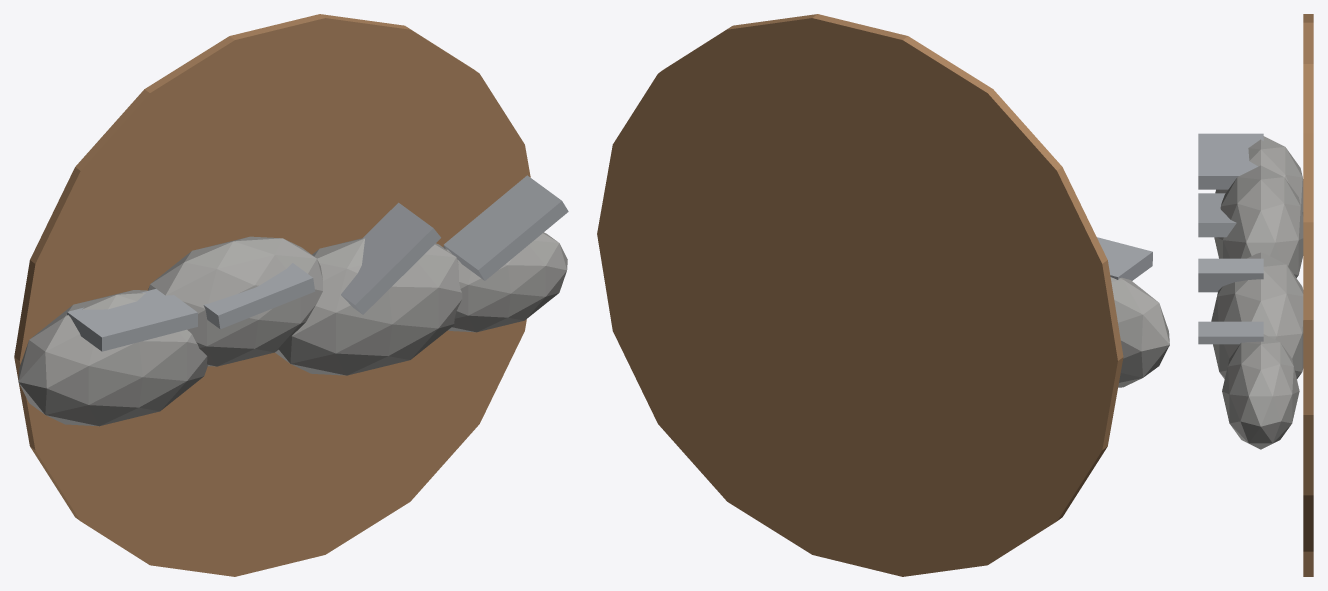
Rendered from 02_local_prop_cluster.glb.
3 renders of one model, left to right at view 1: azimuth 30°, elevation 25°; view 2: azimuth 150°, elevation 25°; view 3: azimuth 270°, elevation 25°, orthographic. The views are drawn at different scales.
Visible parts, largest first — view 1: scatter_base, scrap_rock_0, scrap_rock_2, scrap_rock_1, scrap_rock_3, scrap_plate_3, scrap_plate_2, scrap_plate_0, scrap_plate_1; view 2: scatter_base, scrap_rock_0, scrap_plate_0; view 3: scrap_rock_1, scrap_rock_3, scatter_base, scrap_rock_2, scrap_plate_0, scrap_plate_2, scrap_rock_0, scrap_plate_3, scrap_plate_1.
Part boxes in pixels (left/top/right/bottom): scatter_base: left=14, top=14, right=530, bottom=576; scrap_rock_0: left=18, top=290, right=207, bottom=426; scrap_rock_2: left=275, top=238, right=462, bottom=375; scrap_rock_1: left=148, top=236, right=322, bottom=366; scrap_rock_3: left=443, top=232, right=567, bottom=332; scrap_plate_3: left=444, top=175, right=568, bottom=280; scrap_plate_2: left=341, top=202, right=440, bottom=314; scrap_plate_0: left=67, top=289, right=197, bottom=351; scrap_plate_1: left=203, top=263, right=315, bottom=329; scatter_base: left=597, top=14, right=1123, bottom=576; scrap_rock_0: left=1110, top=277, right=1169, bottom=387; scrap_plate_0: left=1097, top=237, right=1152, bottom=280; scrap_rock_1: left=1214, top=165, right=1303, bottom=277; scrap_rock_3: left=1222, top=334, right=1299, bottom=449; scatter_base: left=1303, top=14, right=1313, bottom=576; scrap_rock_2: left=1211, top=252, right=1303, bottom=378; scrap_plate_0: left=1198, top=133, right=1263, bottom=189; scrap_plate_2: left=1198, top=258, right=1263, bottom=292; scrap_rock_0: left=1215, top=136, right=1303, bottom=215; scrap_plate_3: left=1198, top=321, right=1263, bottom=344; scrap_plate_1: left=1198, top=193, right=1236, bottom=237.
Size of the model in its own units: 2 by 1.87 by 0.3875.
